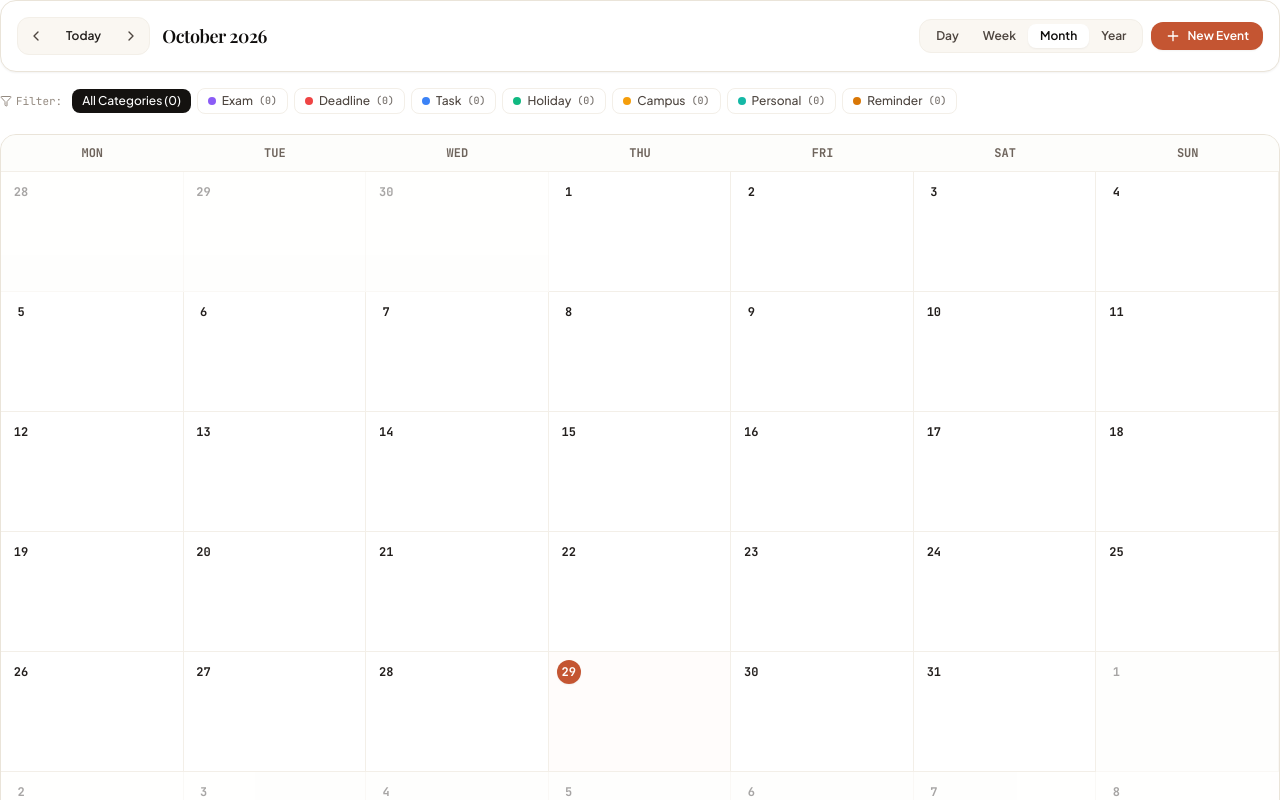
Test: Events & Tasks Calendar Planner Module › 2. Calendar Views (Day, Week, Month, Year) › allows year view mini-month clicking to navigate directly to that month or day
Switch to Year view
Click the button "year". click: (1114, 36)
box: [1089,24,1138,48]
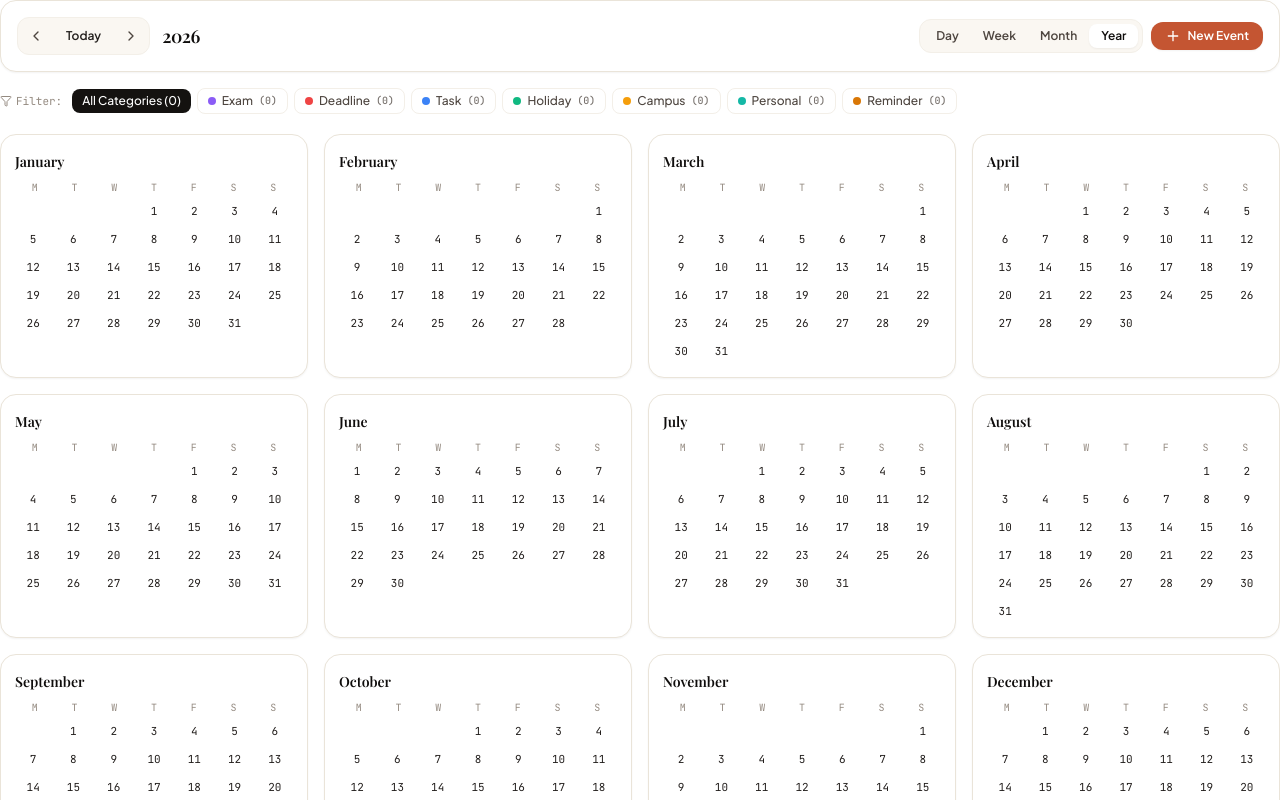
Click January header to go to January Month view
Click the button "January". click: (40, 162)
box: [15,152,293,172]
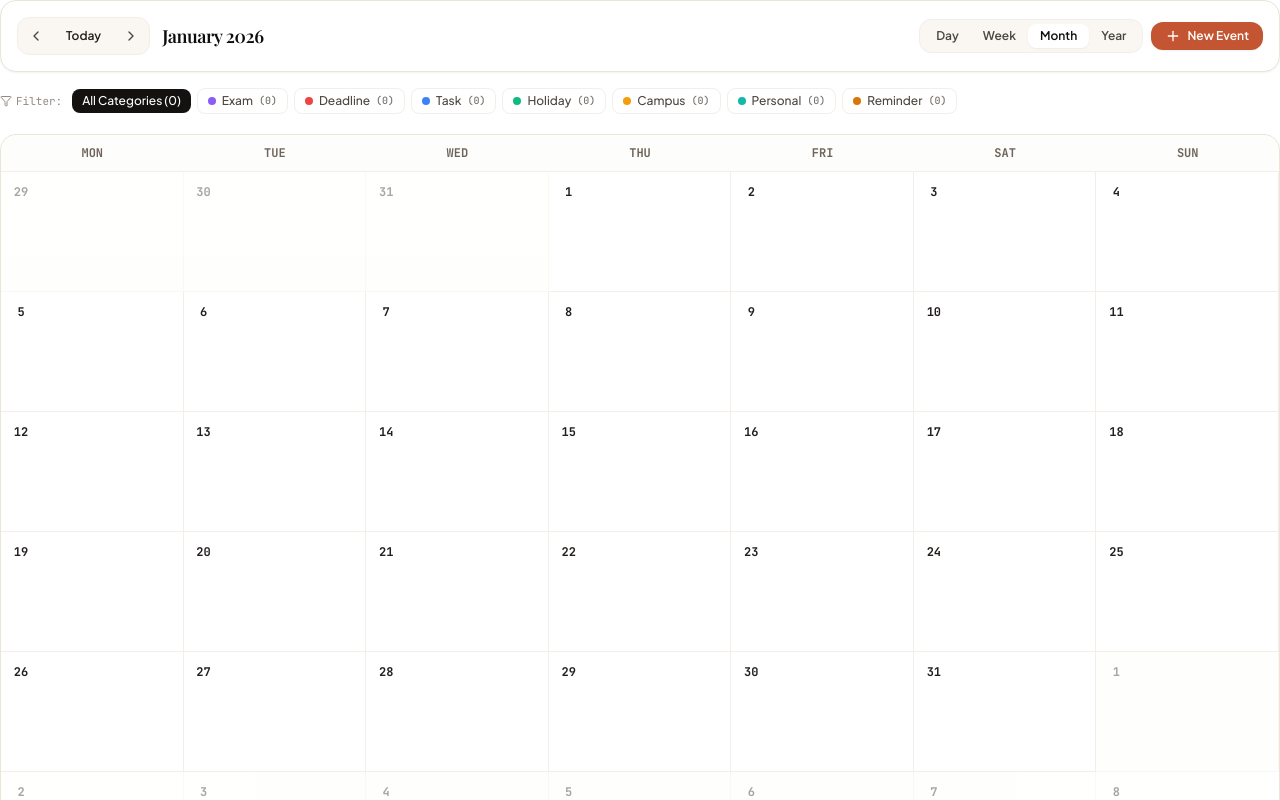
Expected: the heading "January 2026" is shown, [162,22,264,50]
